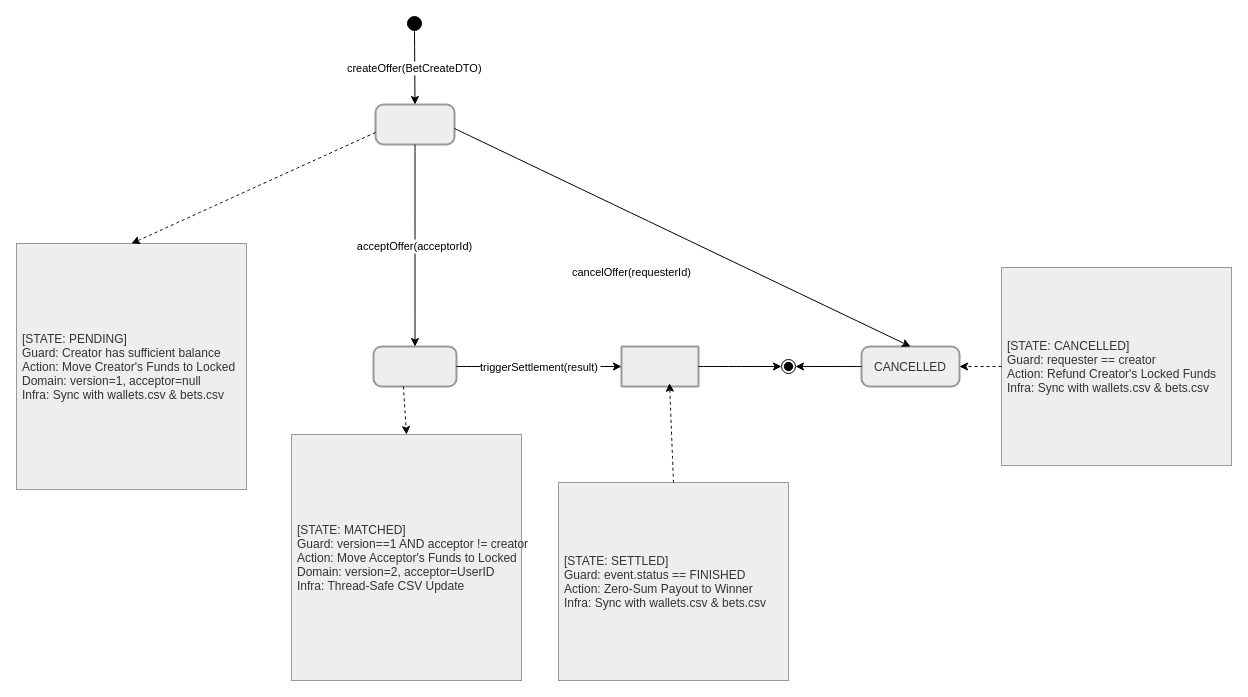
Some shapes in this 1248 by 697 pixel diagram are drawn without their labels. Each missing label, with the centre of its shape:
"MATCHED" goes at (x=414, y=366).
"PENDING" goes at (x=414, y=124).
"SETTLED" goes at (x=659, y=366).
